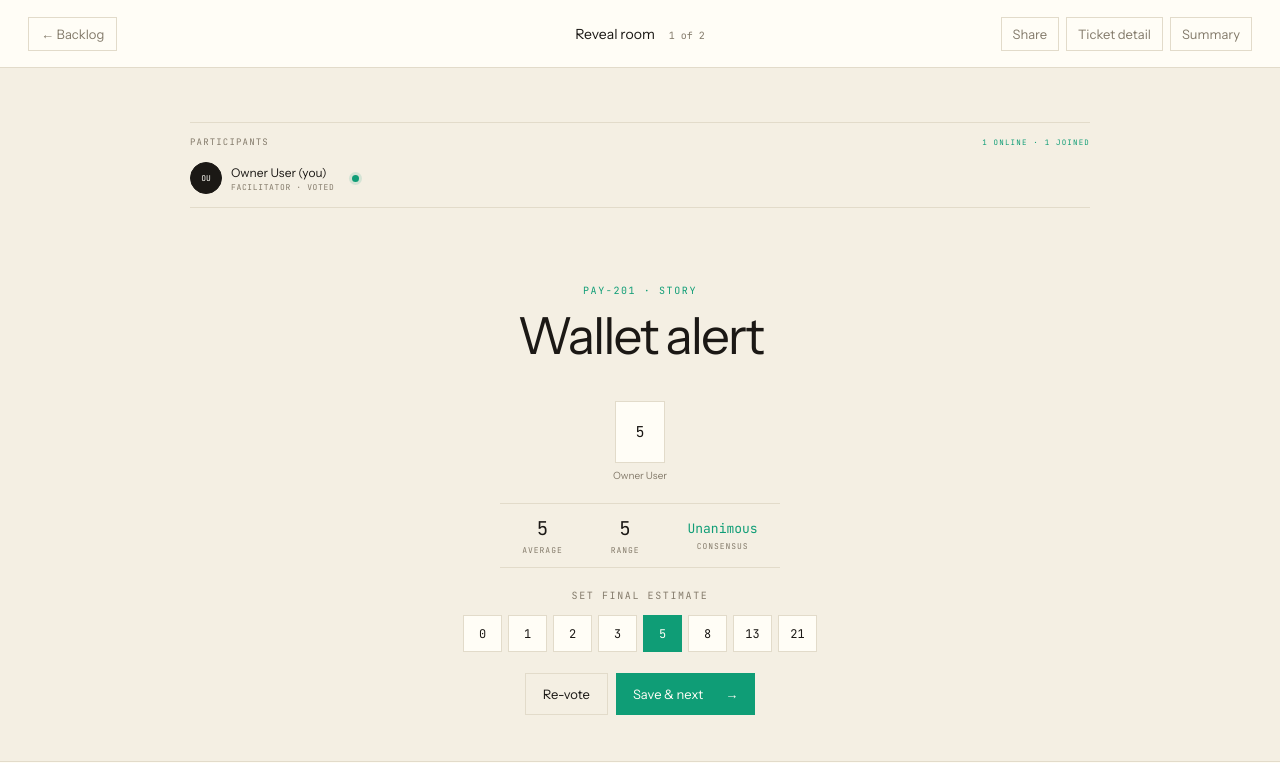
Test: vote reveal and final estimate › keeps the summary open when Realtime refreshes the same active ticket
Check: the heading "Wallet alert" is shown, box [517,308,763,363]
Click the button "Summary" at (1211, 34), box [1170,16,1252,50]
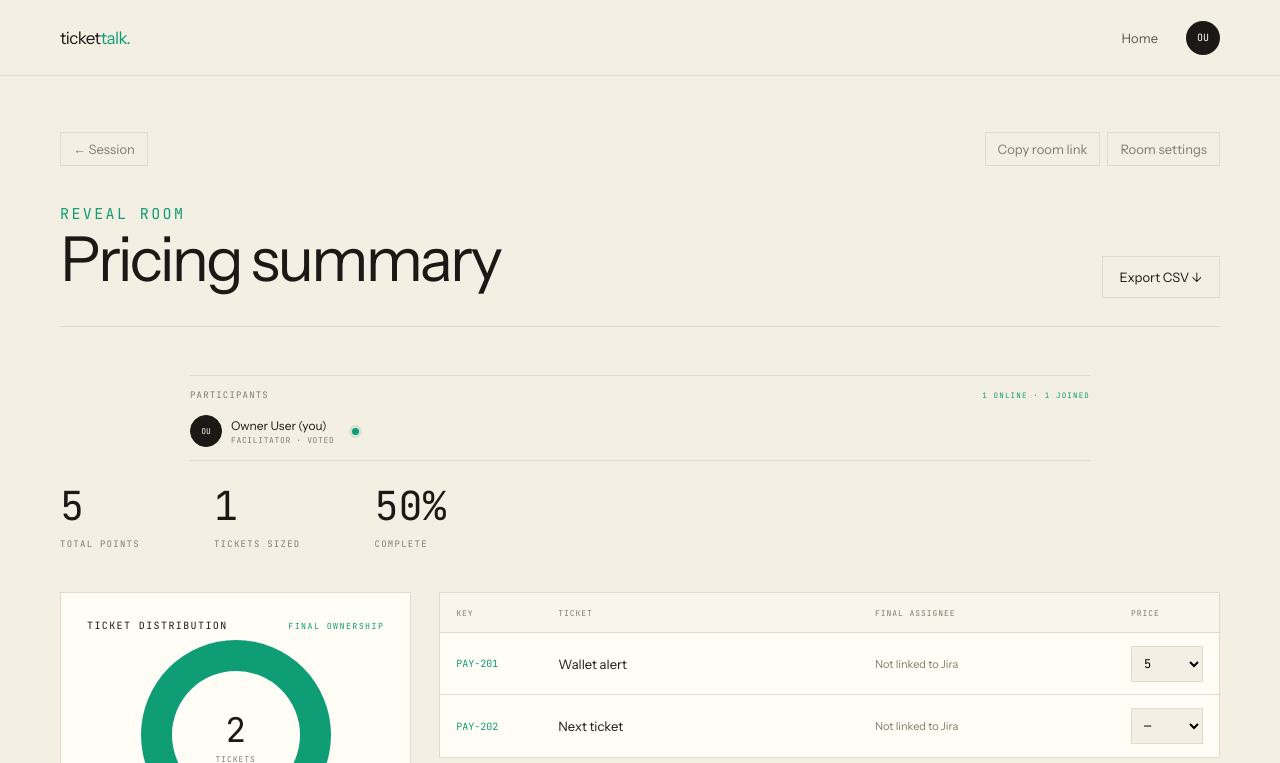
Check: the heading "Pricing summary" is shown, box [60,228,500,290]
